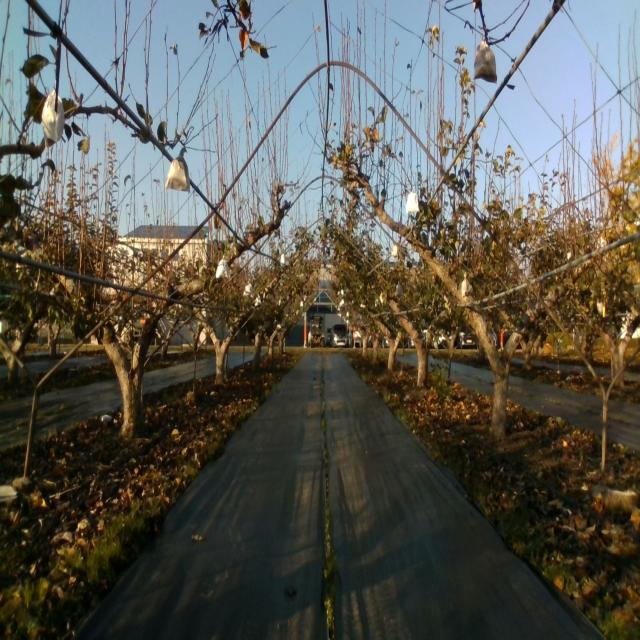pearbags: (42, 81, 64, 143), (166, 143, 190, 193), (473, 41, 497, 84), (404, 187, 419, 214), (216, 255, 230, 280), (461, 272, 473, 298)
